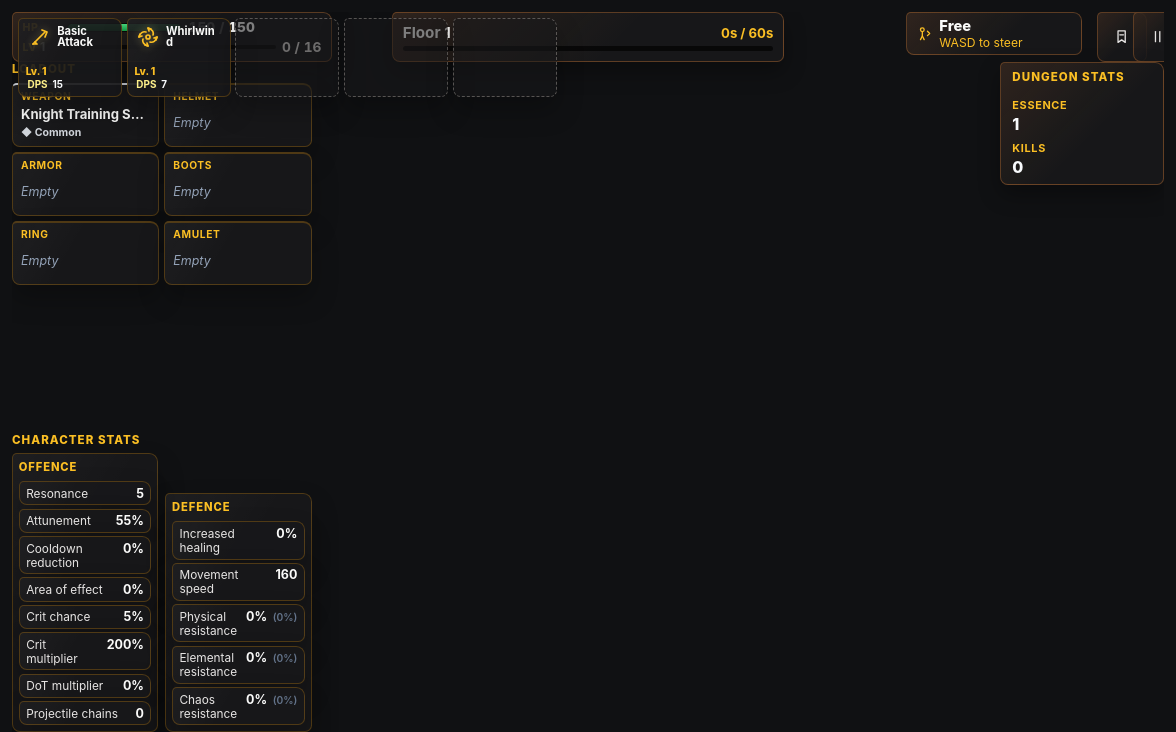
Test case: the skill tooltip › shows the synergy slot and the synergies the skill could take
The width and height of the screenshot is (1176, 732).
Hover over the button with aria-label "whirlwind, level".
mouse_move(178, 57)  # box [126,18,230,97]
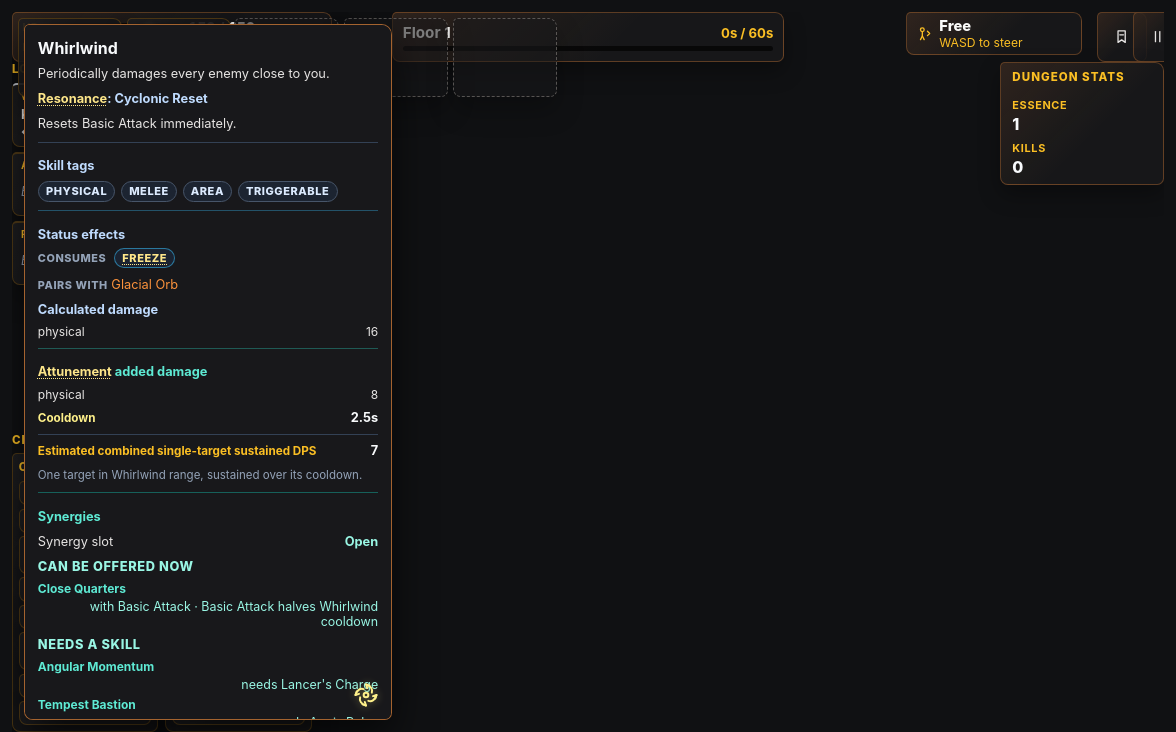
Expected: the text "Synergy slot" is shown, [38,533,113,551]
Expected: the text "Open" is shown, [345,533,378,551]
Expected: the text "Can be offered now" is shown, [38,559,194,574]
